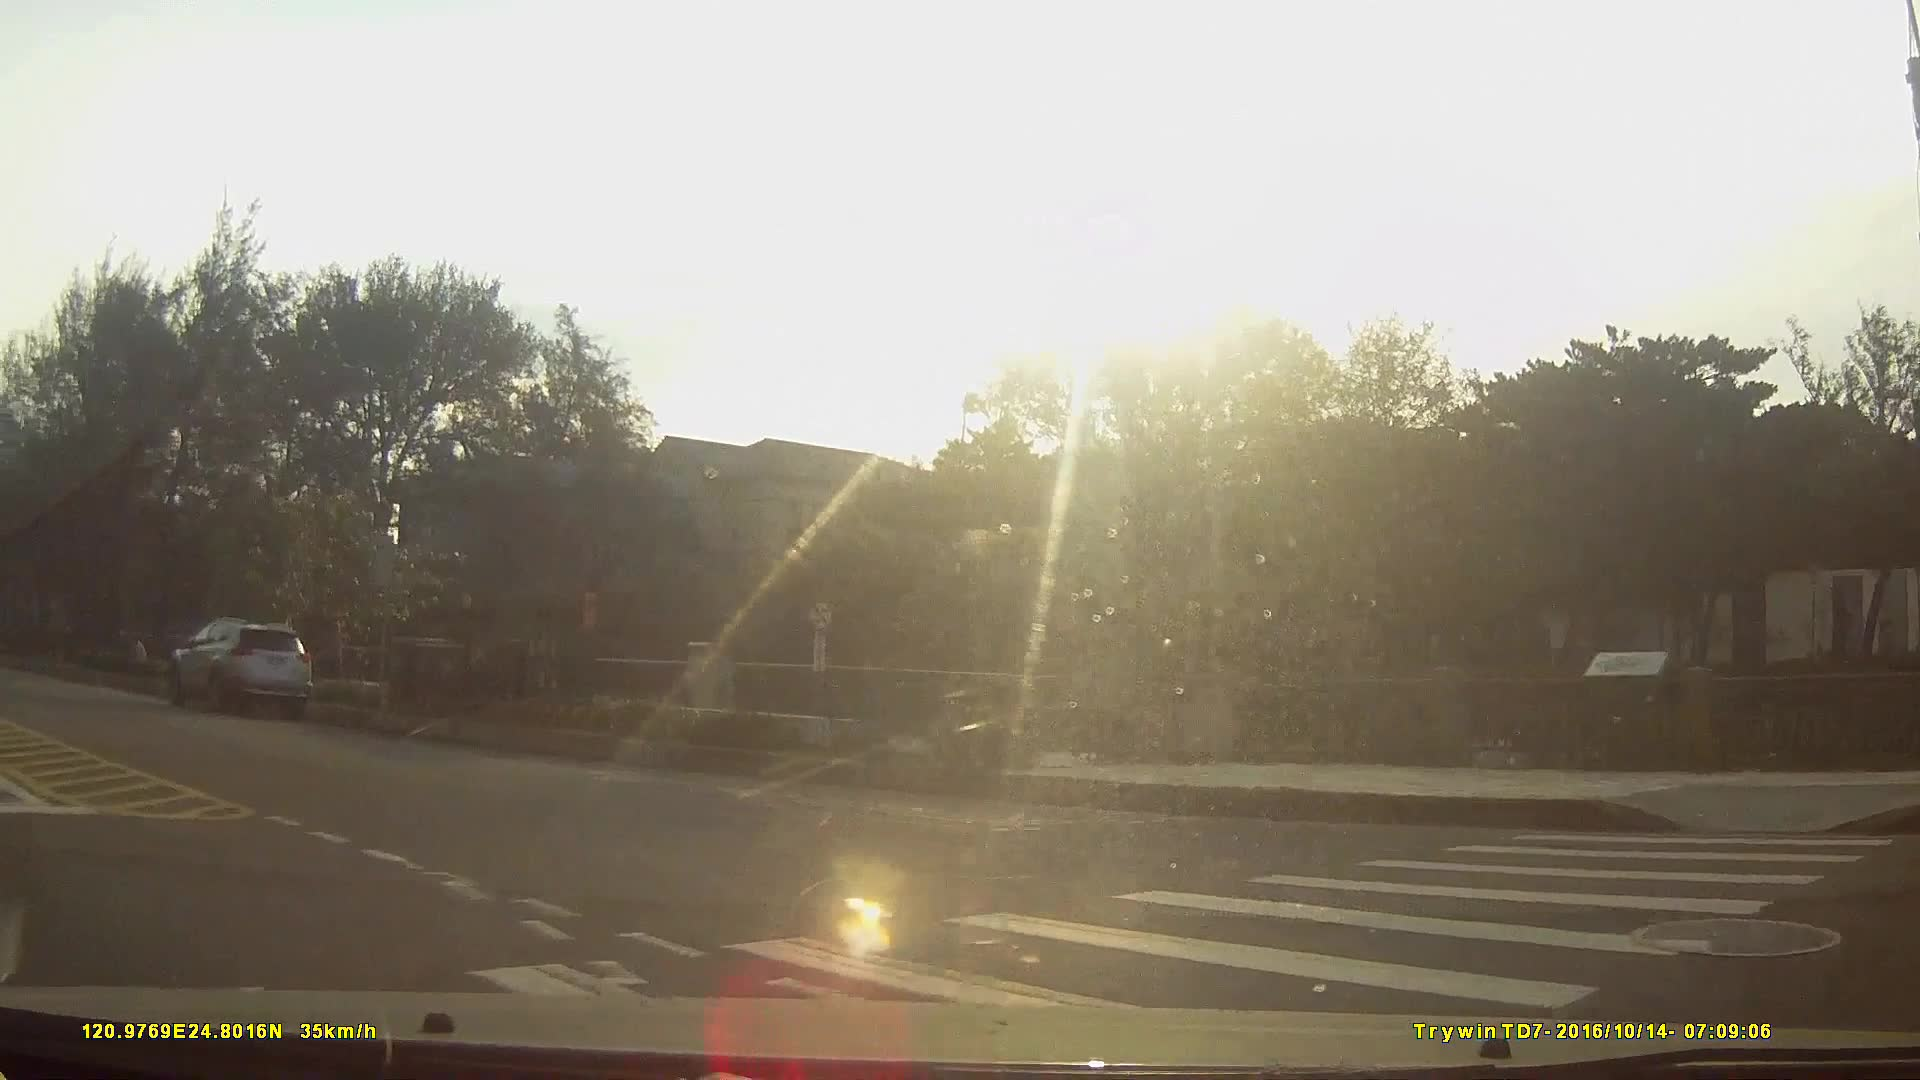vehicle: (166, 613, 311, 717)
